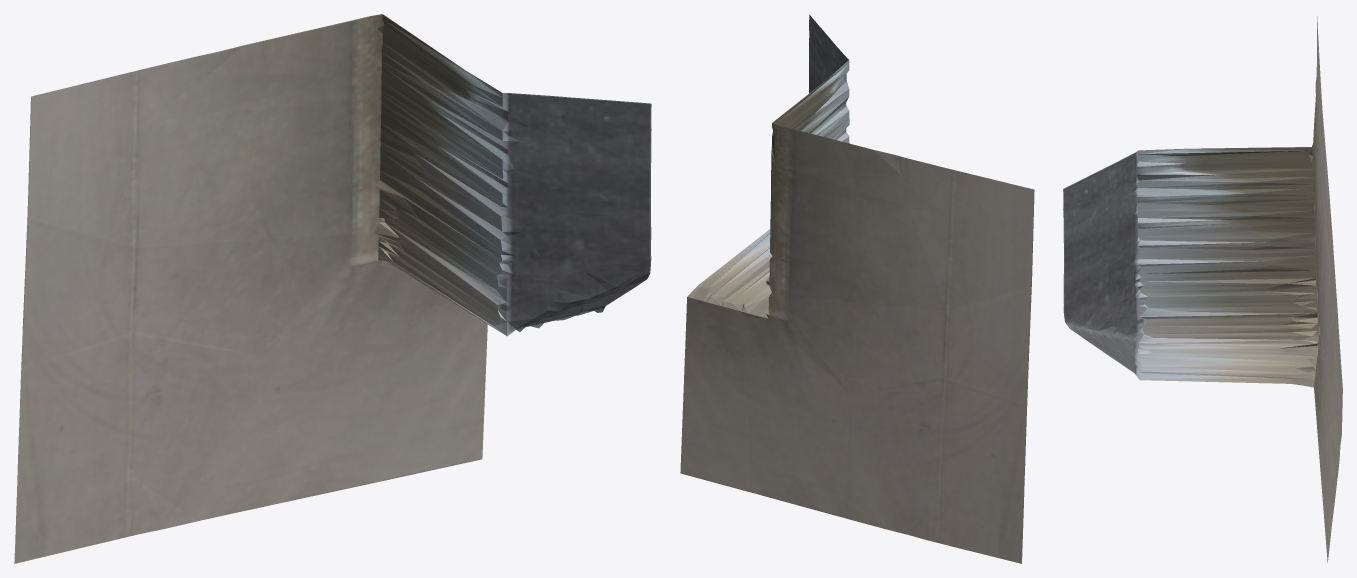
Rendered from map_60_90.obj.
3 views of the same model, side by side, from view 1: azimuth 30°, elevation 25°; view 2: azimuth 150°, elevation 25°; view 3: azimuth 270°, elevation 25° (orthographic). The views are drawn at different scales.
Visible parts, largest first — view 1: grp1; view 2: grp1; view 3: grp1.
Part boxes in pixels (<box>): grp1: <box>14,14,651,563</box>; grp1: <box>680,14,1034,563</box>; grp1: <box>1063,16,1342,562</box>.
Size of the model in its own units: 10 by 10 by 6.76.
1 material, 1 textured.
